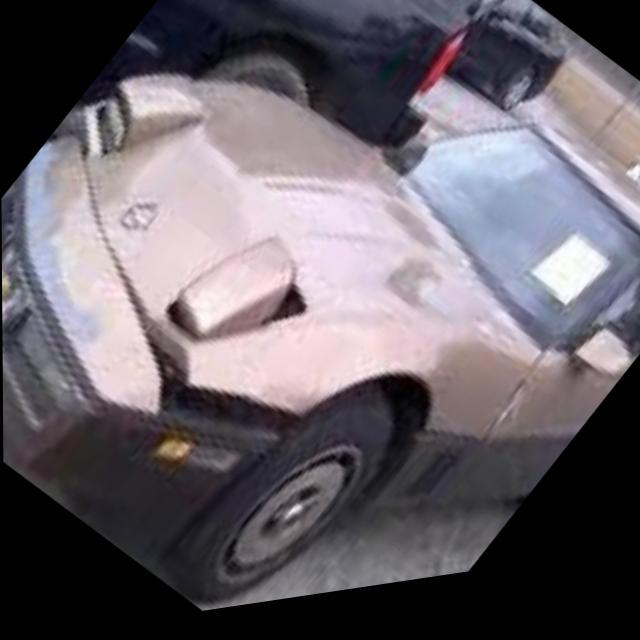dent: (10, 147, 98, 357)
dislocated part: (130, 290, 291, 462)
